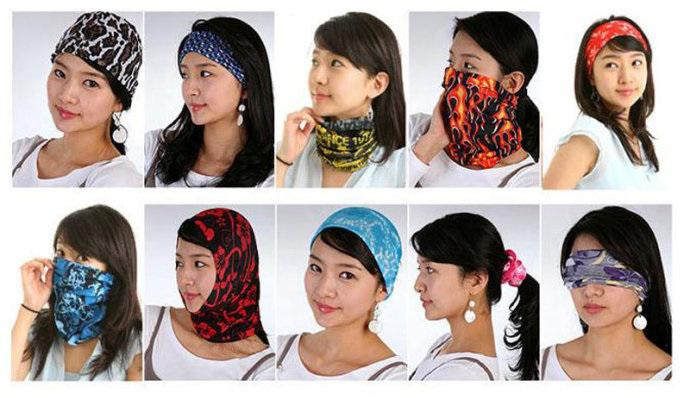NONE: (303, 250, 373, 327), (567, 250, 631, 330), (43, 60, 108, 130), (176, 246, 230, 314), (309, 49, 357, 116), (415, 259, 464, 323), (181, 59, 227, 127), (596, 51, 650, 105)
OK: (445, 46, 498, 116), (52, 241, 110, 302)
